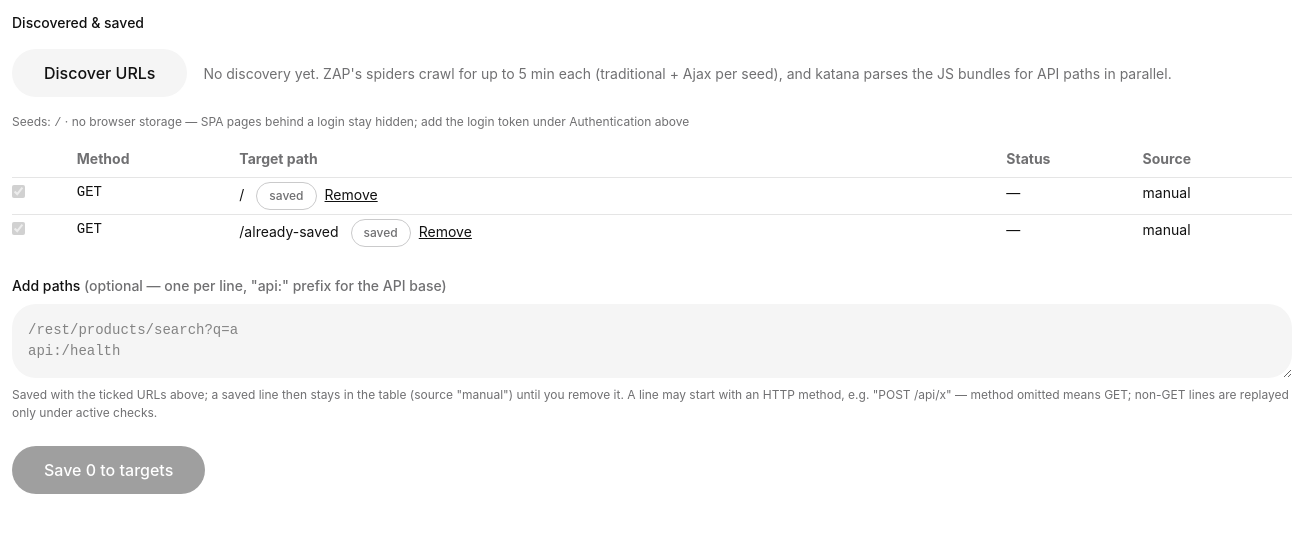
Scenario: DiscoveryPanel › shows the API error when starting a discovery is rejected
What coordinates should you click on to do the following:
click the button with test id "start-discovery"
I would click on:
 (100, 73)
Its box is [12,49,187,97].
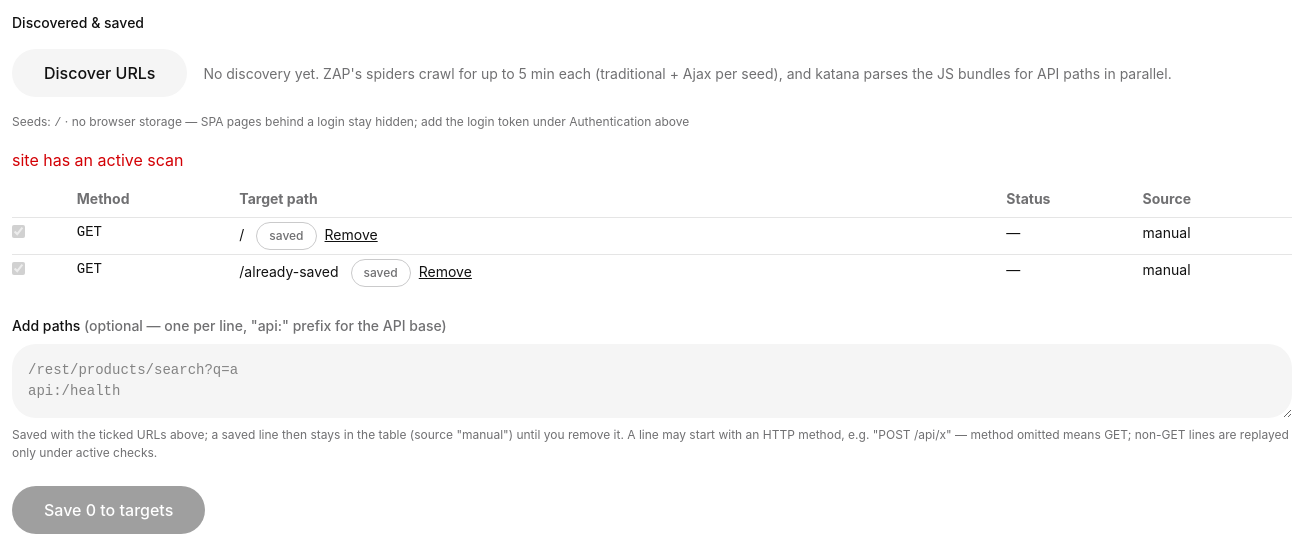
Expected: the text with test id "discovery-error" shows "active scan", [12,150,184,170]
